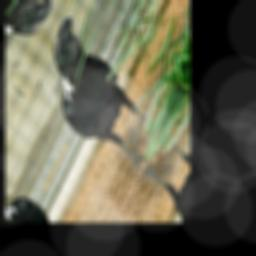Crow: (29, 9, 172, 185)
